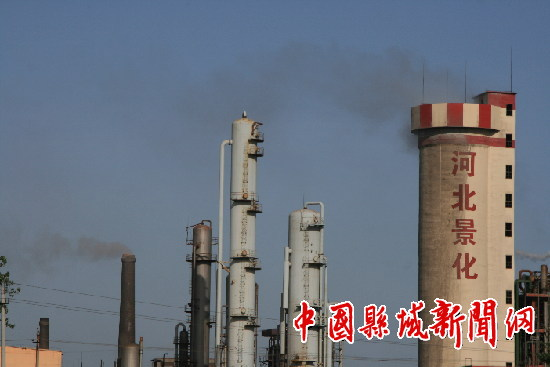dust: (43, 213, 140, 268)
